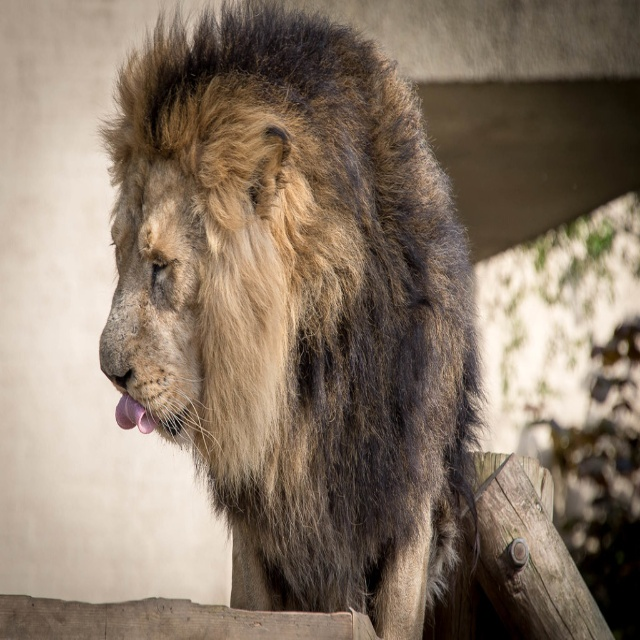Lion: (98, 0, 501, 640)
